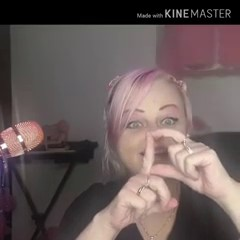D: (106, 124, 229, 226)
